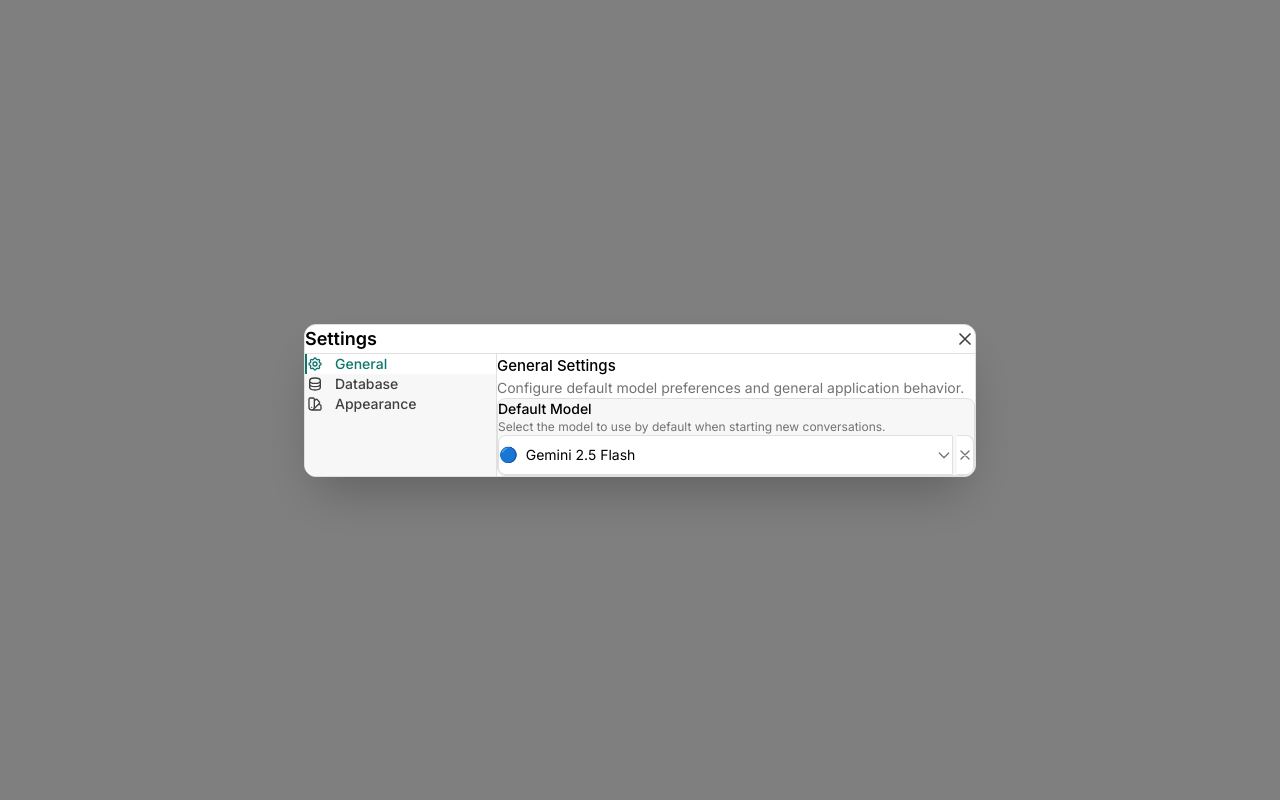
Test: Task 11.3: Default Model Configuration › Clear Default Model › should clear selection when clear button is clicked
Check: the button with test id "default-model-selector" is shown, box [498,434,953,474]
Click the button with test id "clear-default-model".
click(966, 454)  # box [957,434,974,474]
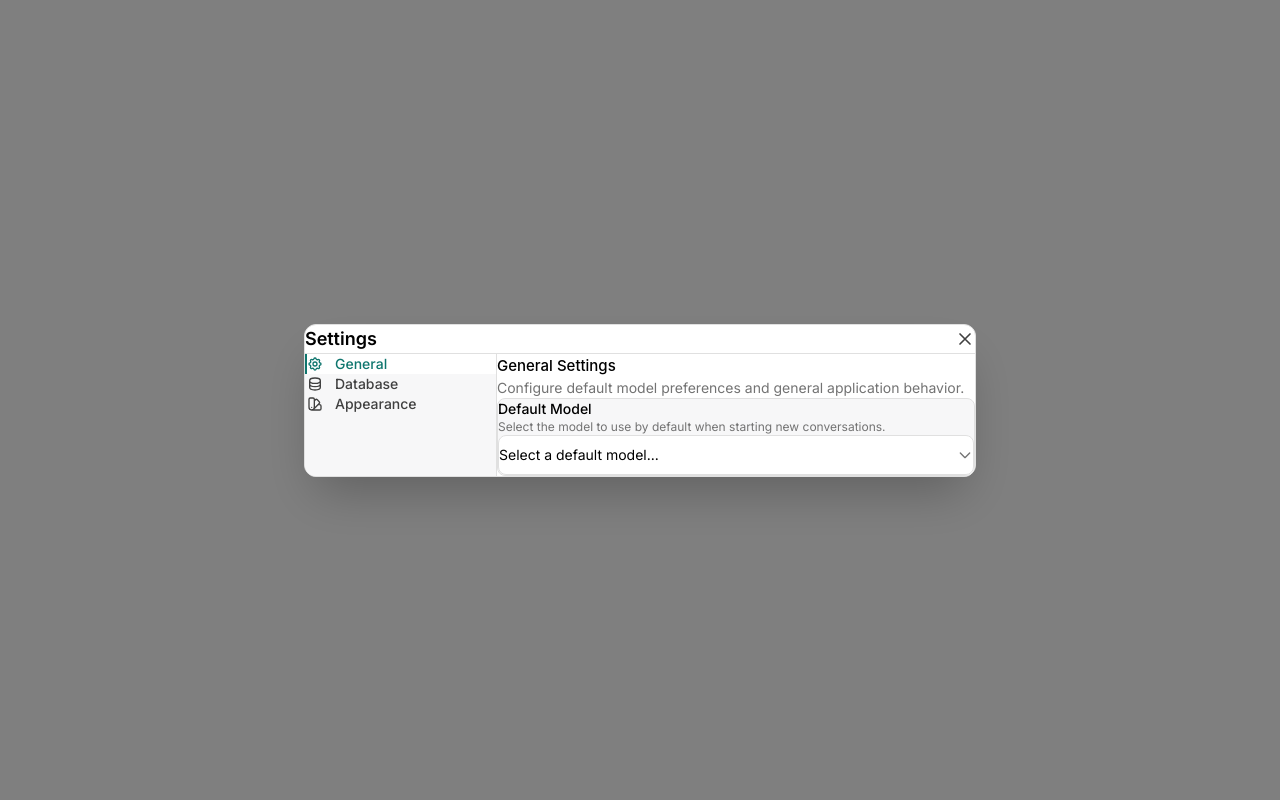
Check: the text "Select a default model..." is shown, box [499,446,659,462]
